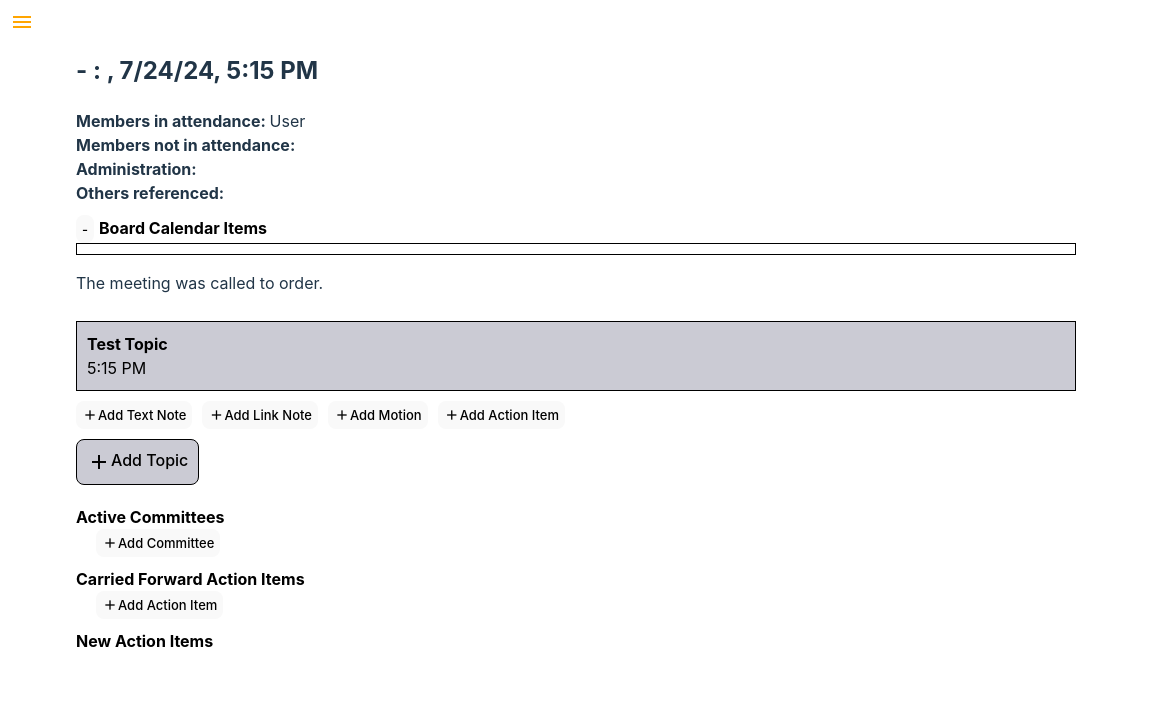
Test case: action items › shows an error message if the new action item does not have a due date
Click the 1st button "Add Action Item" at point(501, 415), box [438,401,565,429]
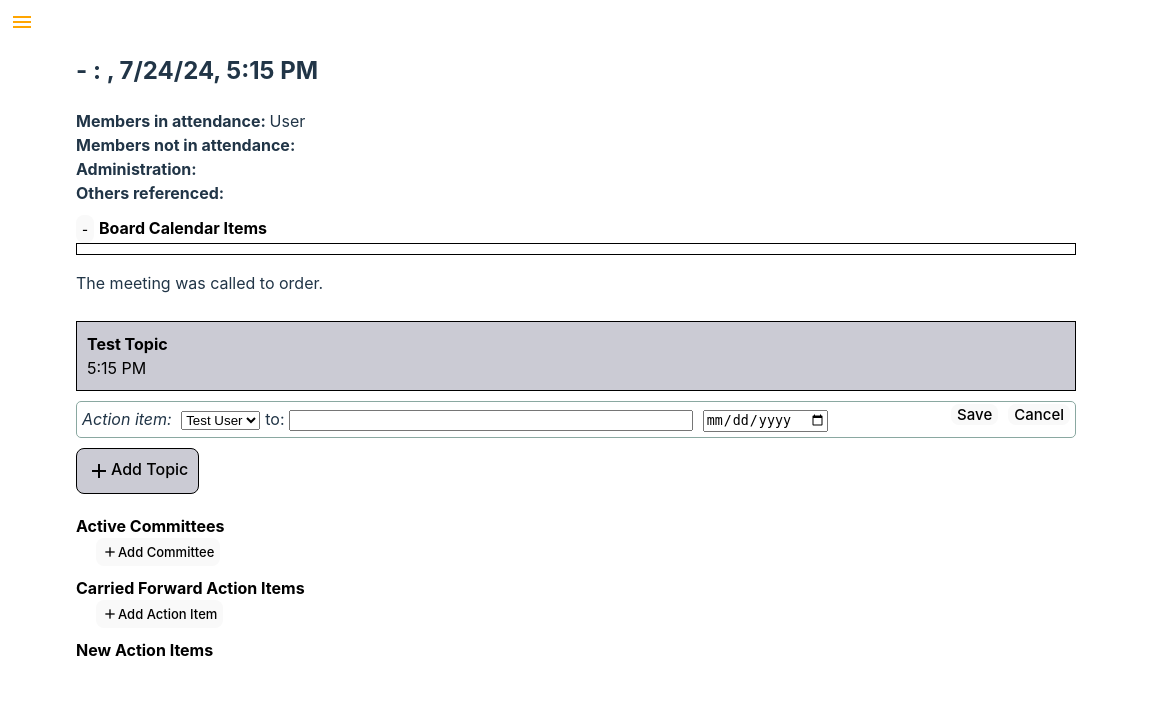
Select "Test User" in the dropdown named "Assignee" at point(221, 421), box [181,411,260,430]
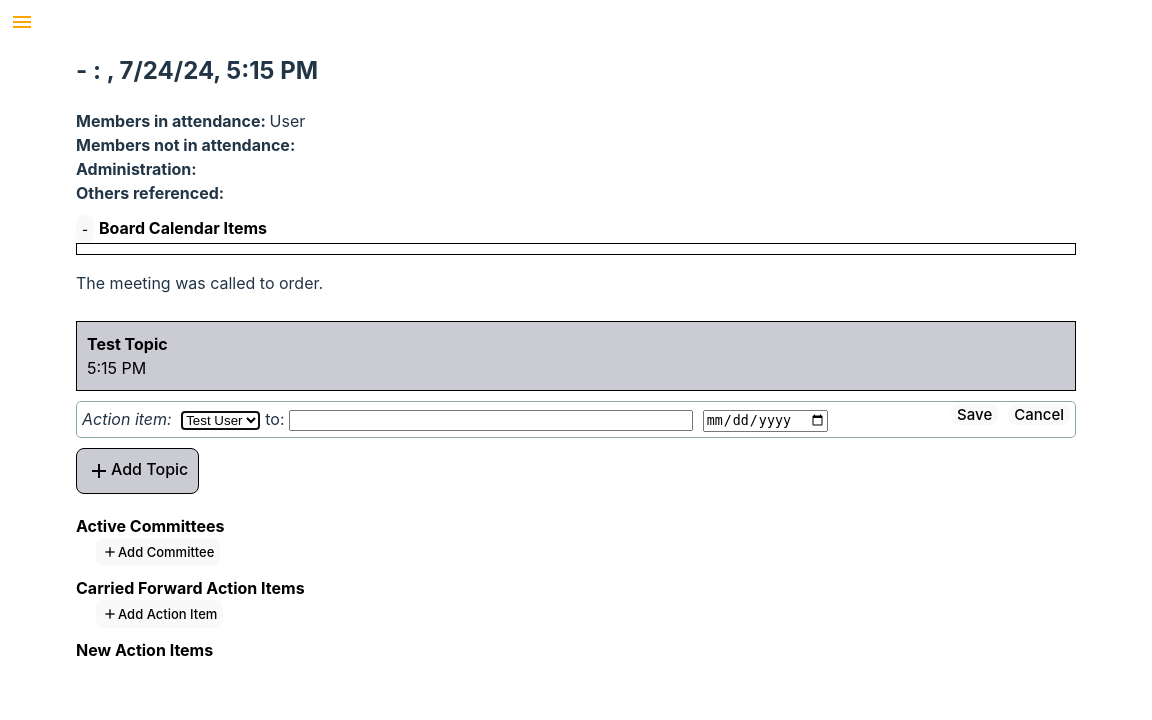
Type "New Action Item" into the field named "Action item text" at point(491, 421), box [290,410,693,431]
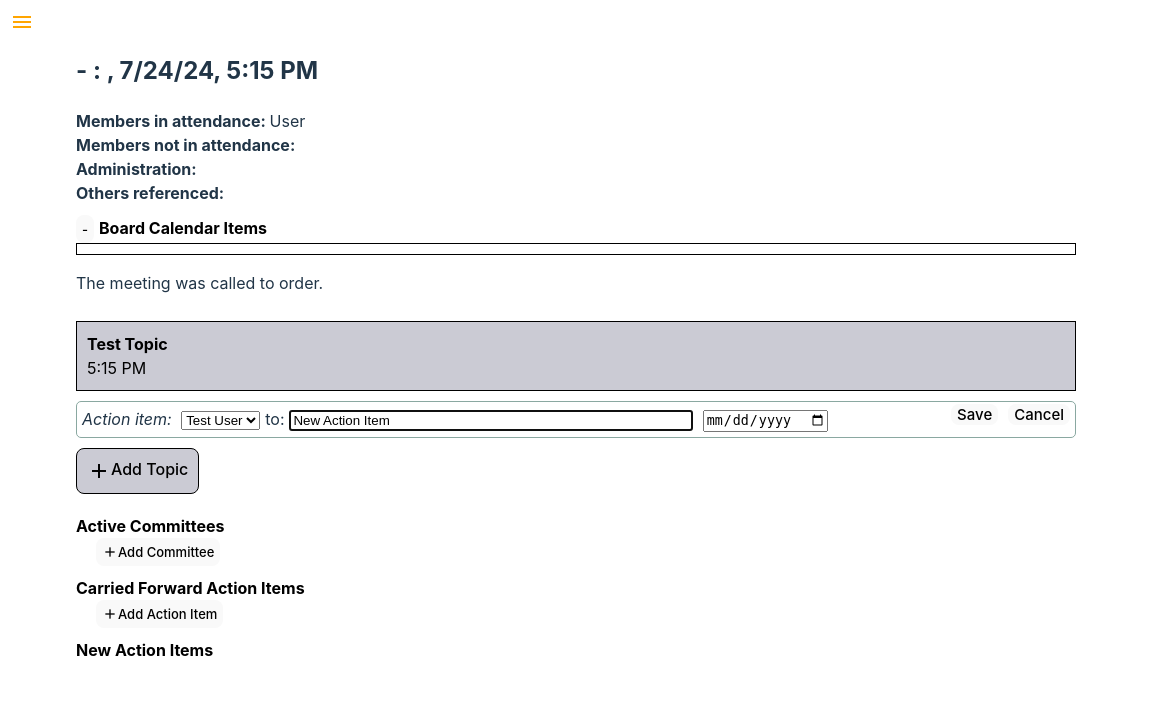
Click the button "Save" at point(975, 415), box [951,404,998,425]
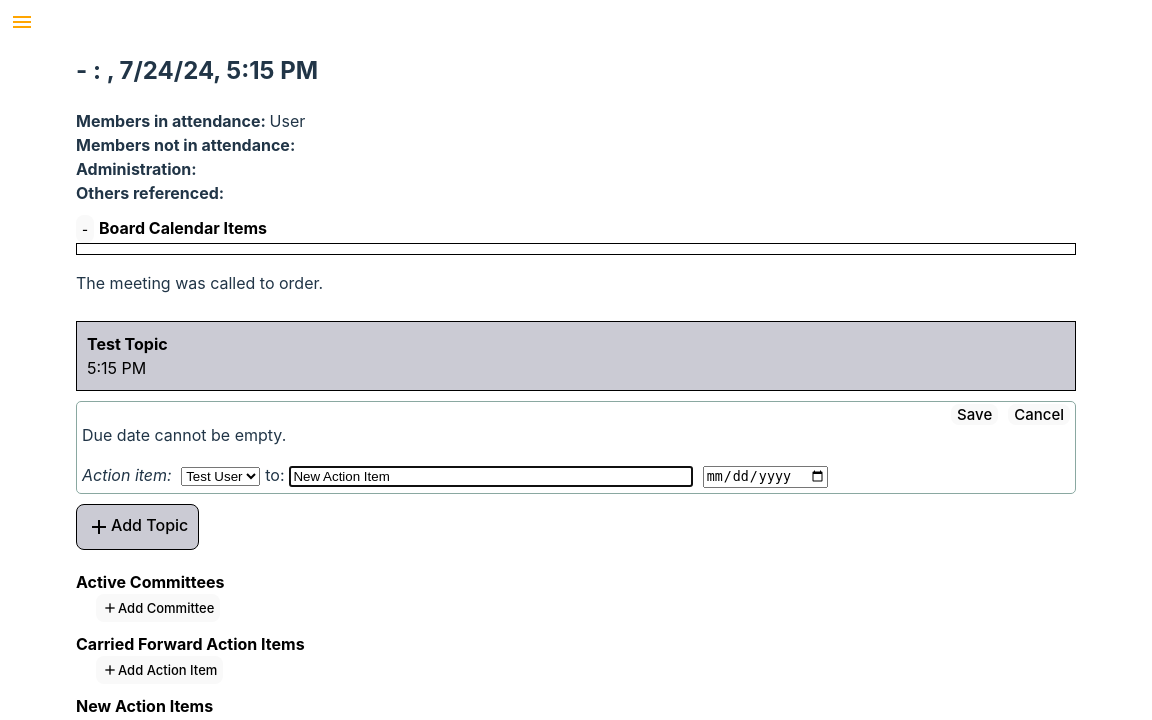
Check: the message reads "Due date cannot be empty.", box [82,425,286,445]
